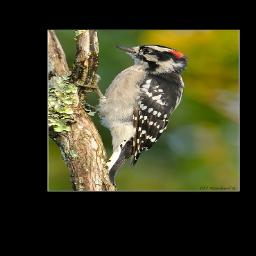Woodpecker: (79, 45, 191, 186)
